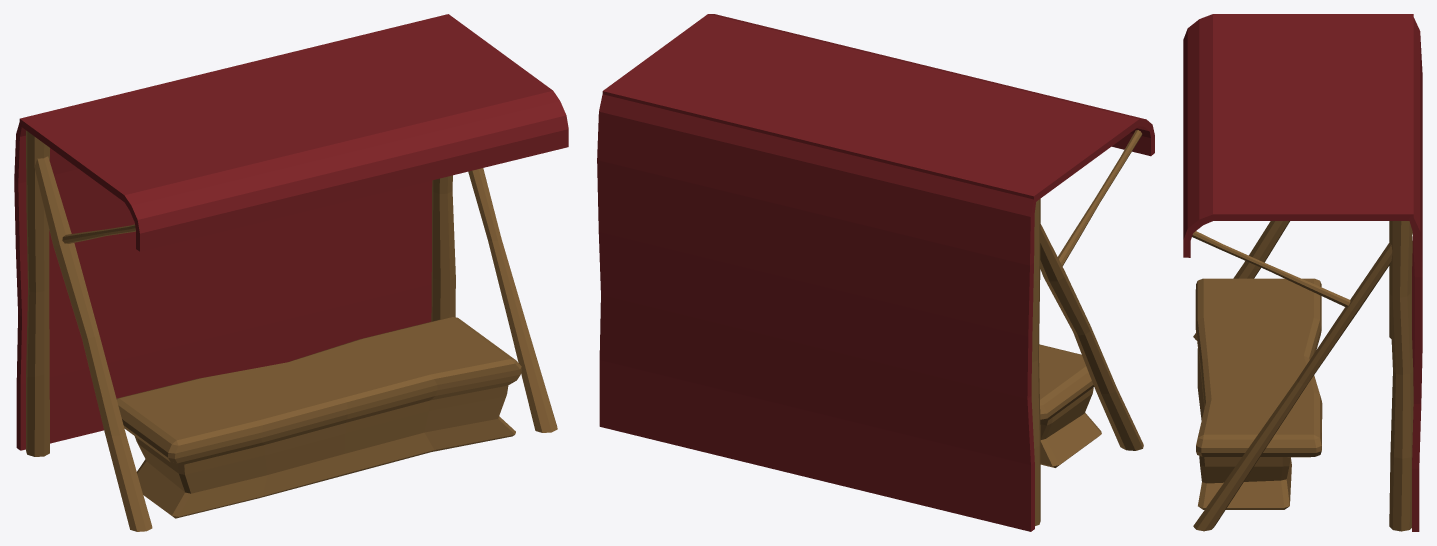
File: tradestand01.fbx
3 renders of one model, left to right at view 1: azimuth 30°, elevation 25°; view 2: azimuth 150°, elevation 25°; view 3: azimuth 270°, elevation 25°, orthographic. The views are drawn at different scales.
Parts seen in each view (by area): view 1: Cylinder; view 2: Cylinder; view 3: Cylinder.
Part boxes in pixels (x1=…): Cylinder: x1=14, y1=14, x2=568, y2=531; Cylinder: x1=597, y1=14, x2=1154, y2=531; Cylinder: x1=1183, y1=14, x2=1422, y2=531.
Size of the model in its own units: 319 by 234 by 160.
